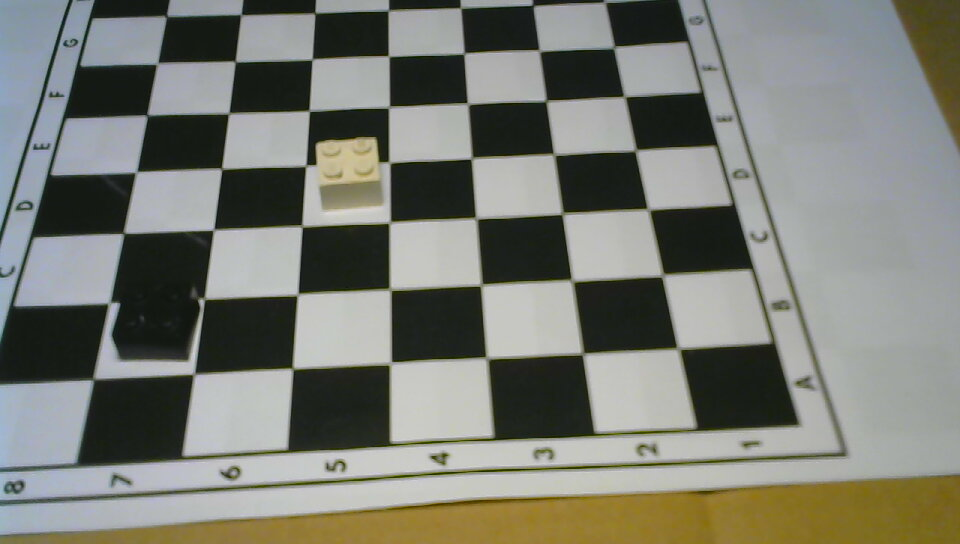bp: (111, 281, 202, 360)
wp: (314, 135, 383, 210)
